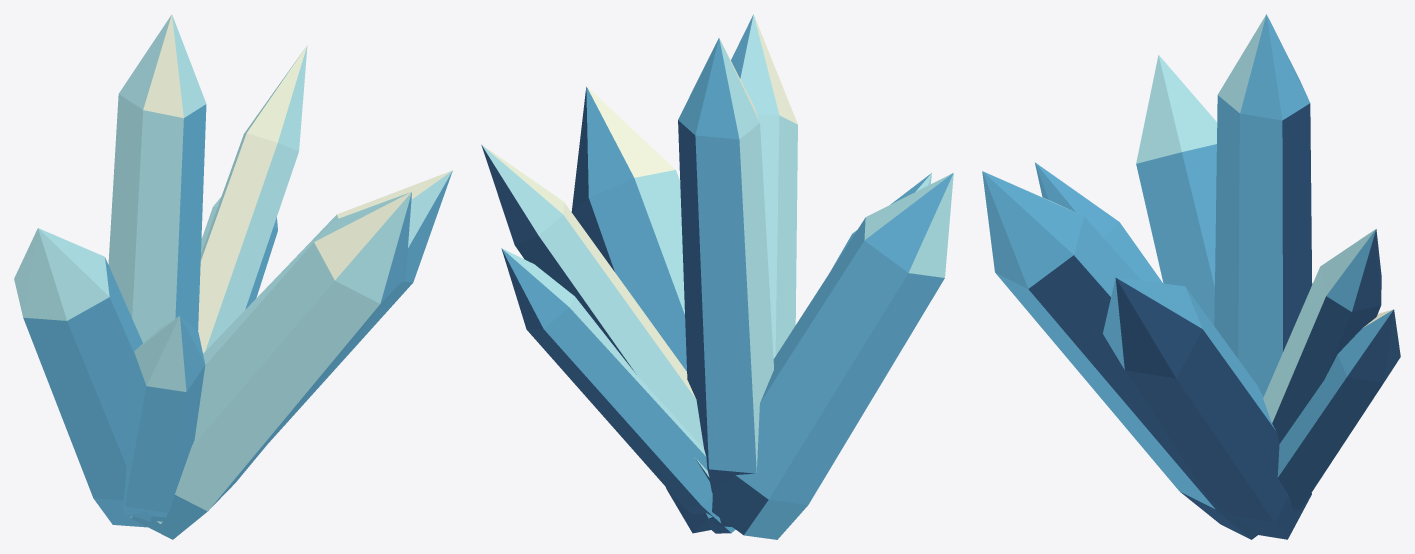
The model's file is ice_cluster.glb.
3 views of the same model, side by side, from view 1: azimuth 30°, elevation 25°; view 2: azimuth 150°, elevation 25°; view 3: azimuth 270°, elevation 25° (orthographic). The views are drawn at different scales.
Visible parts, largest first — view 1: ice_cluster; view 2: ice_cluster; view 3: ice_cluster.
Part boxes in pixels (bbox=[...]): ice_cluster: bbox=[14, 14, 452, 539]; ice_cluster: bbox=[481, 14, 953, 539]; ice_cluster: bbox=[982, 14, 1400, 539].
Size of the model in its own units: 1.78 by 2.16 by 1.57.
